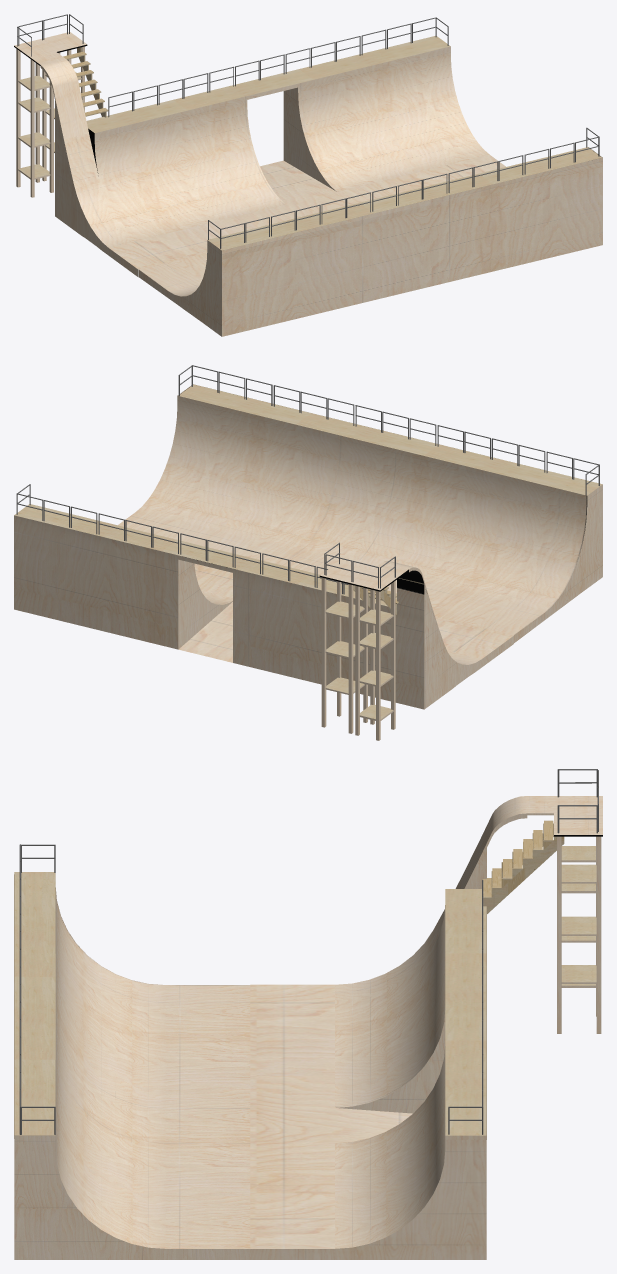
The picture shows the model from 3 angles, top to bottom: view 1: azimuth 30°, elevation 25°; view 2: azimuth 150°, elevation 25°; view 3: azimuth 270°, elevation 25°; orthographic projection. The views are drawn at different scales.
Parts seen in each view (by area): view 1: pCylinder2, pCylinder3, pCube14, pCube11, pCube13; view 2: pCylinder3, pCylinder2, pCube17, pCube10, pCube12, pCube11, pCube14; view 3: pCylinder2, pCylinder3, pCube2, pCube10, pCube15, pCube20, pCube19, pCube18.
Part boxes in pixels (<box>): pCylinder2: <box>14,32,505,276</box>; pCylinder3: <box>138,147,602,336</box>; pCube14: <box>30,59,34,197</box>; pCube11: <box>16,49,20,187</box>; pCube13: <box>49,81,53,192</box>; pCylinder3: <box>118,384,602,642</box>; pCylinder2: <box>14,504,513,709</box>; pCube17: <box>348,584,353,733</box>; pCube10: <box>321,577,326,727</box>; pCube12: <box>355,585,359,735</box>; pCube11: <box>376,591,380,740</box>; pCube14: <box>391,581,395,729</box>; pCylinder2: <box>250,796,602,1259</box>; pCylinder3: <box>14,872,250,1259</box>; pCube2: <box>483,836,564,913</box>; pCube10: <box>596,836,601,1033</box>; pCube15: <box>557,836,561,1033</box>; pCube20: <box>561,864,596,883</box>; pCube19: <box>561,916,596,935</box>; pCube18: <box>561,965,596,983</box>.
Bounding box in the file's own units: 59.35 × 23.87 × 55.92.
Materials: 6 (5 with a texture image).
